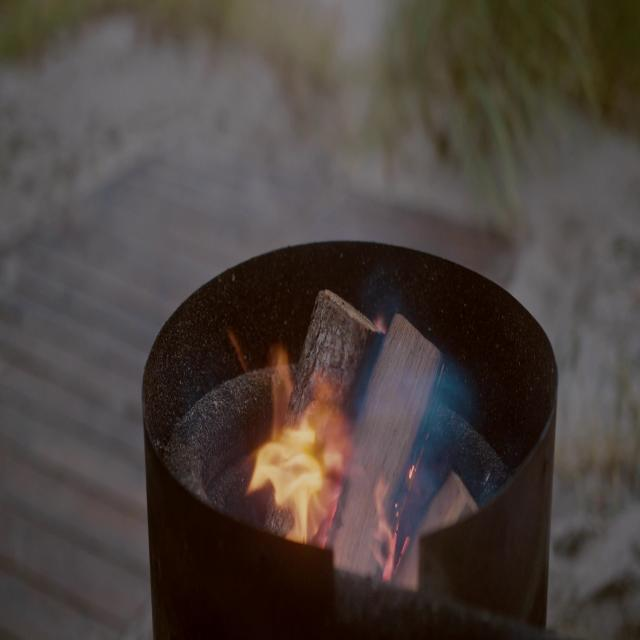Fire: (245, 372, 374, 552)
